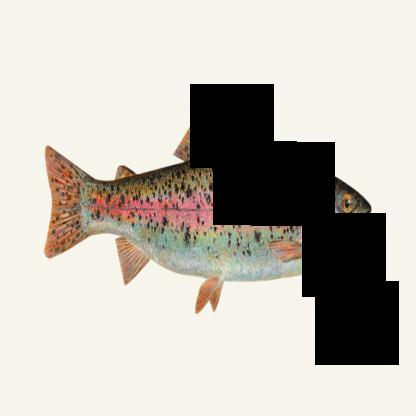fish: (44, 98, 374, 316)
